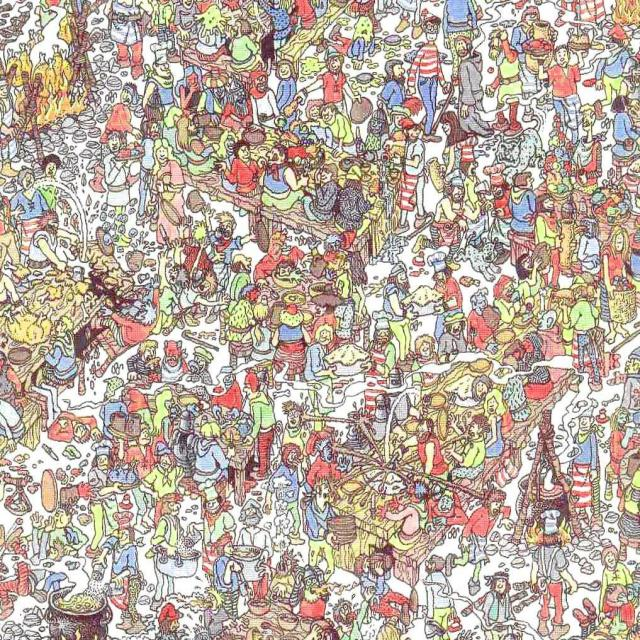waldo: (422, 8, 442, 42)
